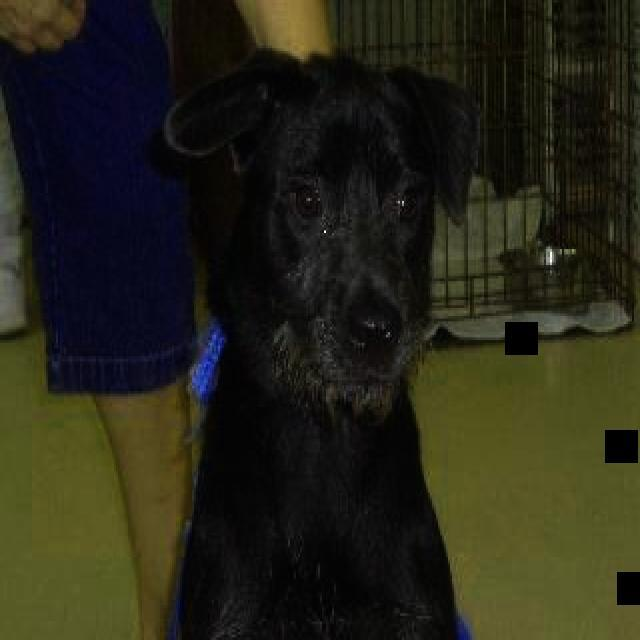adult_dog: (156, 45, 487, 638)
